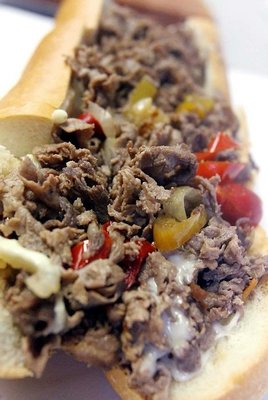sandwich: (0, 8, 264, 397)
